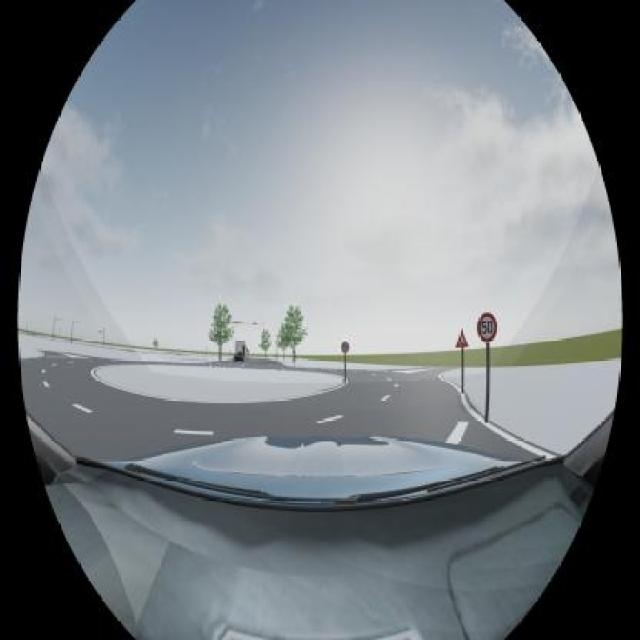forb_speed_over_50: (477, 312, 498, 343), (341, 341, 350, 353)
